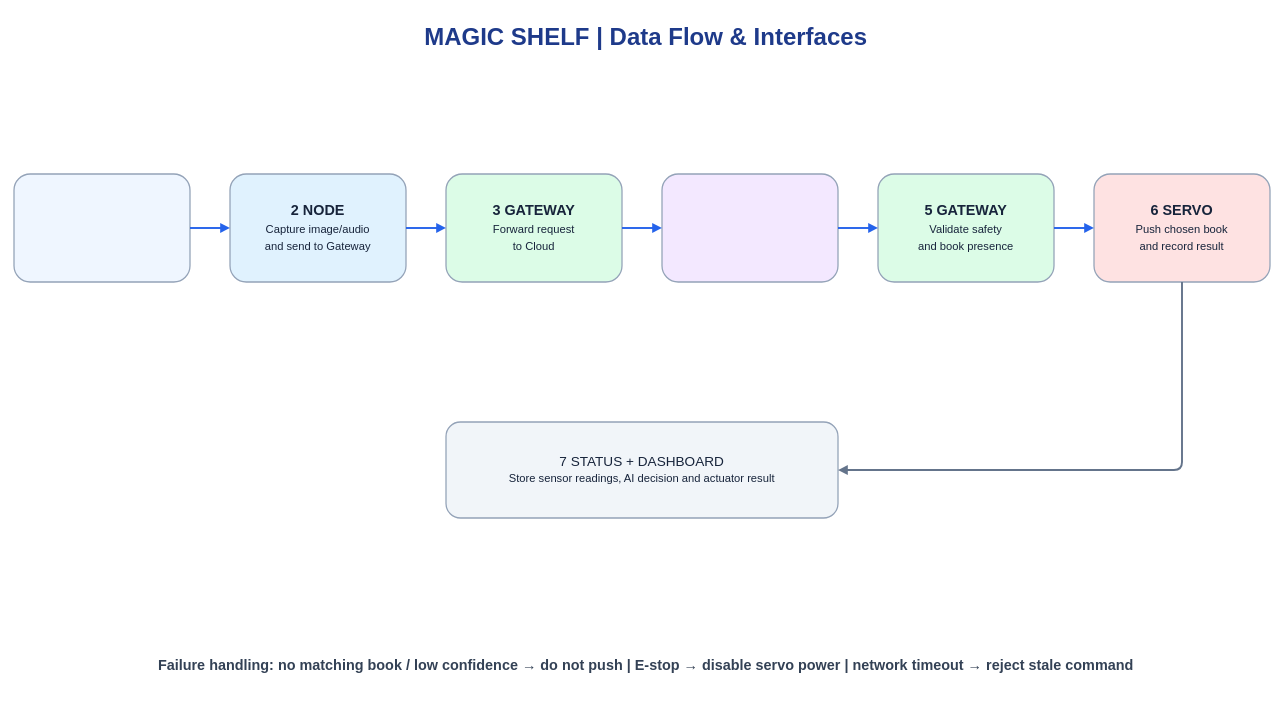
This 1285x715 diagram has some shape labels left out. Each missing label, with the centre of its shape:
"1 USER Speak a book name or show a cover" belongs at (x=101, y=227).
"4 CLOUD + AI Recognize Book ID and lookup Slot" belongs at (x=749, y=227).
